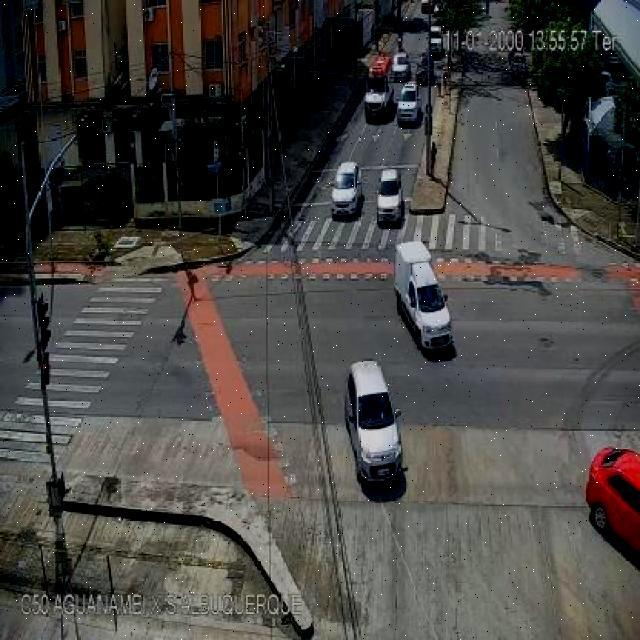car: (345, 361, 405, 496), (394, 241, 452, 349), (589, 448, 640, 568), (364, 52, 395, 122), (331, 161, 361, 219), (376, 169, 404, 228), (398, 82, 422, 124), (391, 51, 411, 82)
traffic-lights: (34, 295, 65, 516)
